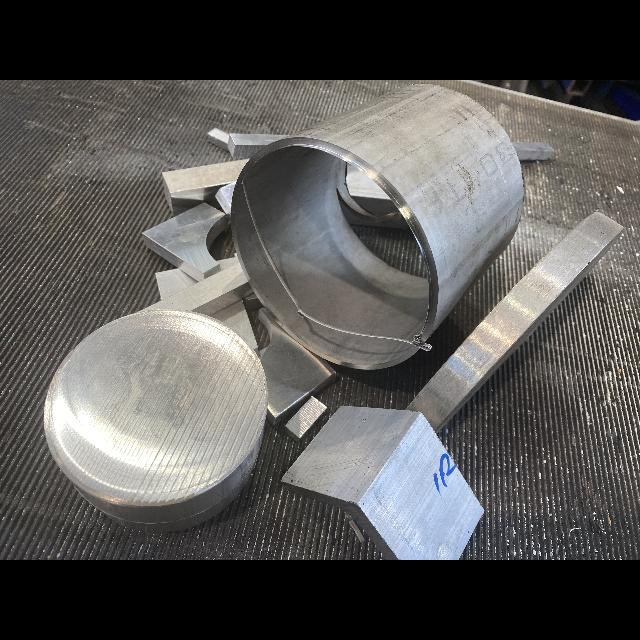Aluminium: (282, 406, 483, 559), (259, 310, 335, 425), (140, 263, 253, 316), (162, 160, 247, 216), (346, 164, 395, 213), (213, 300, 258, 351), (285, 397, 327, 441), (227, 133, 287, 159), (156, 268, 198, 300), (512, 142, 554, 161), (215, 181, 236, 215), (207, 128, 230, 151), (218, 257, 239, 271)
Stainless Steel: (233, 84, 524, 368), (44, 310, 267, 533), (406, 212, 624, 432)
